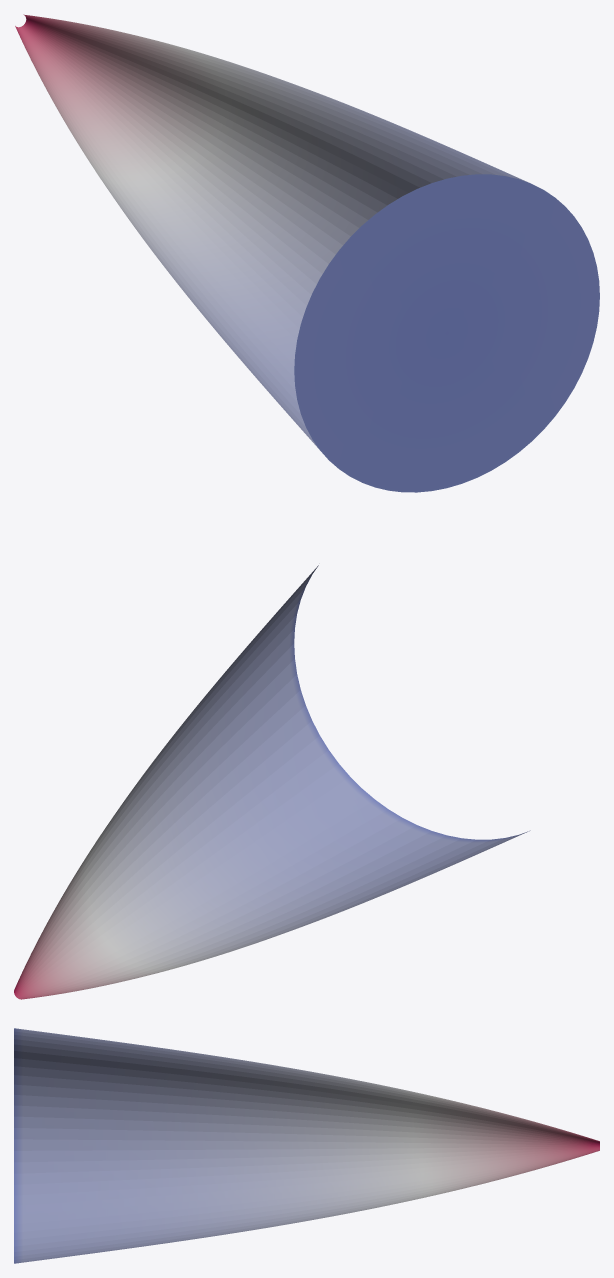
The model's file is frame_026.glb.
3 views of the same model, one above another, from view 1: azimuth 30°, elevation 25°; view 2: azimuth 150°, elevation 25°; view 3: azimuth 270°, elevation 25° (orthographic). The views are drawn at different scales.
Visible parts, largest first — view 1: world; view 2: world; view 3: world.
Boxes of the visible parts, bbox=[...] form: world: bbox=[15, 14, 599, 492]; world: bbox=[14, 565, 530, 999]; world: bbox=[14, 1028, 599, 1263].
Bounding box in the file's own units: 0.4134 × 0.4 × 1.
